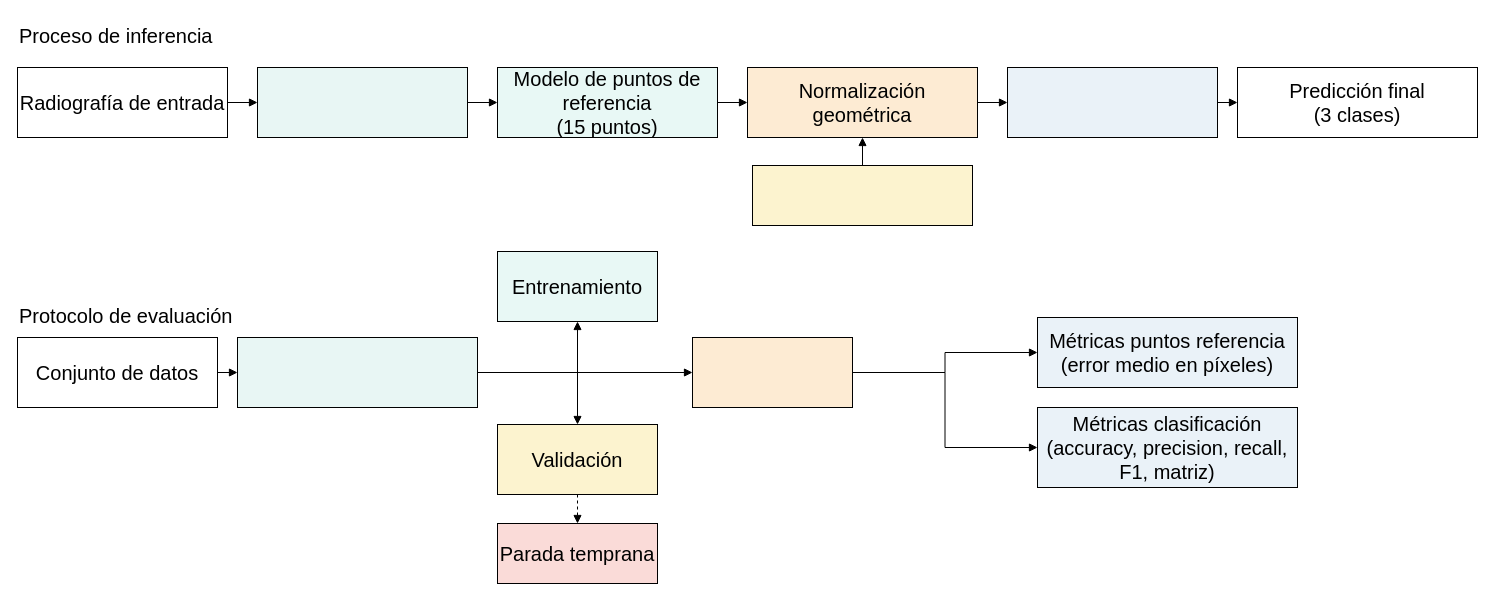
Some shapes in this 1495 by 601 pixel diagram are drawn without their labels. The box of each missing label's shape, as (x1, y1, x2, y2) in pixels:
CLAHE (normaliza contraste): (256, 66, 468, 138)
Clasificador (ResNet-18): (1006, 66, 1218, 138)
División estratificada por clase: (236, 336, 478, 408)
Forma estándar (GPA) precalculada: (752, 164, 972, 226)
Prueba: (692, 336, 852, 408)
